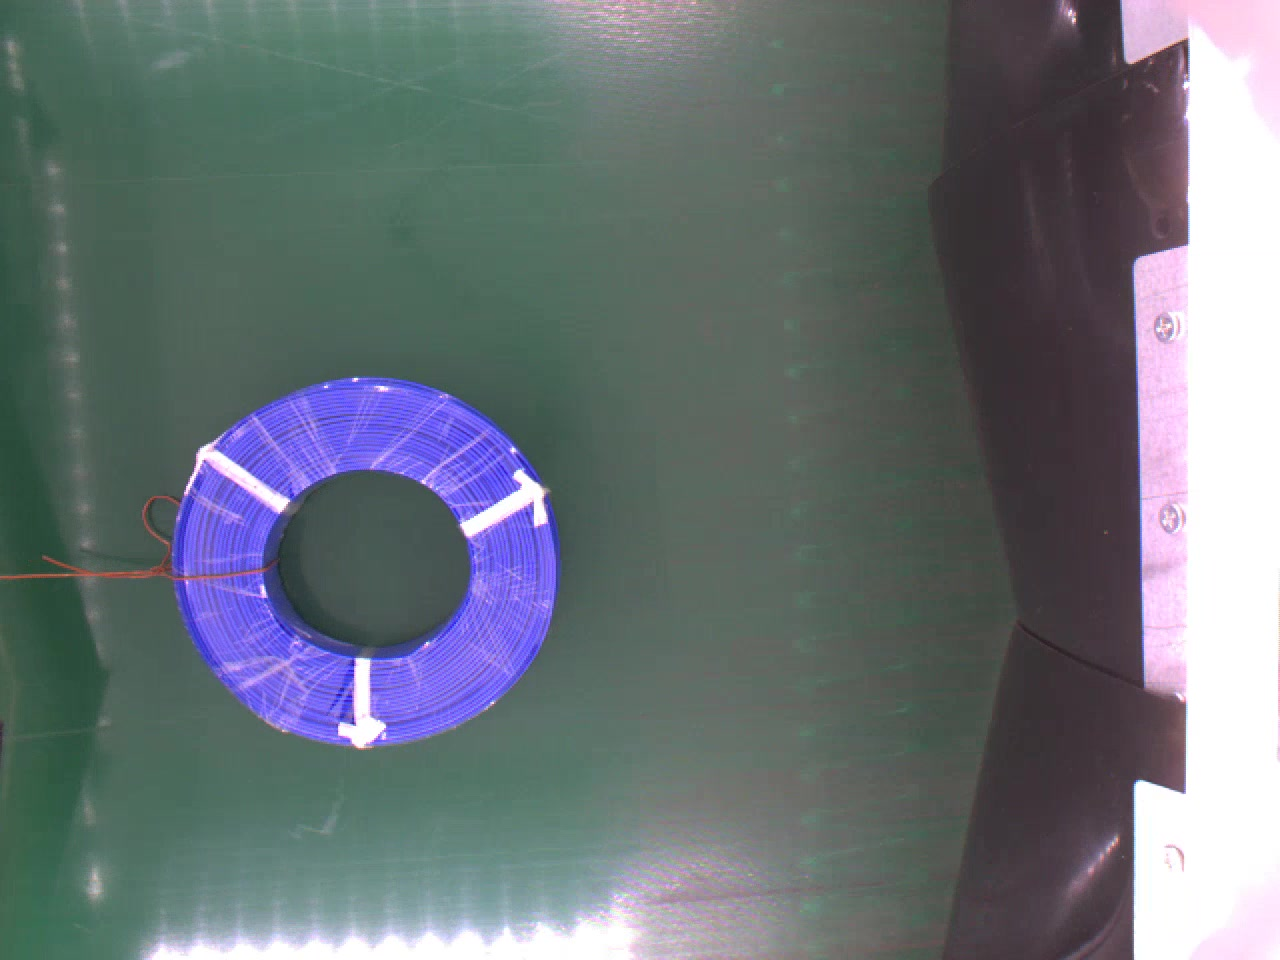blue: (169, 371, 562, 744)
